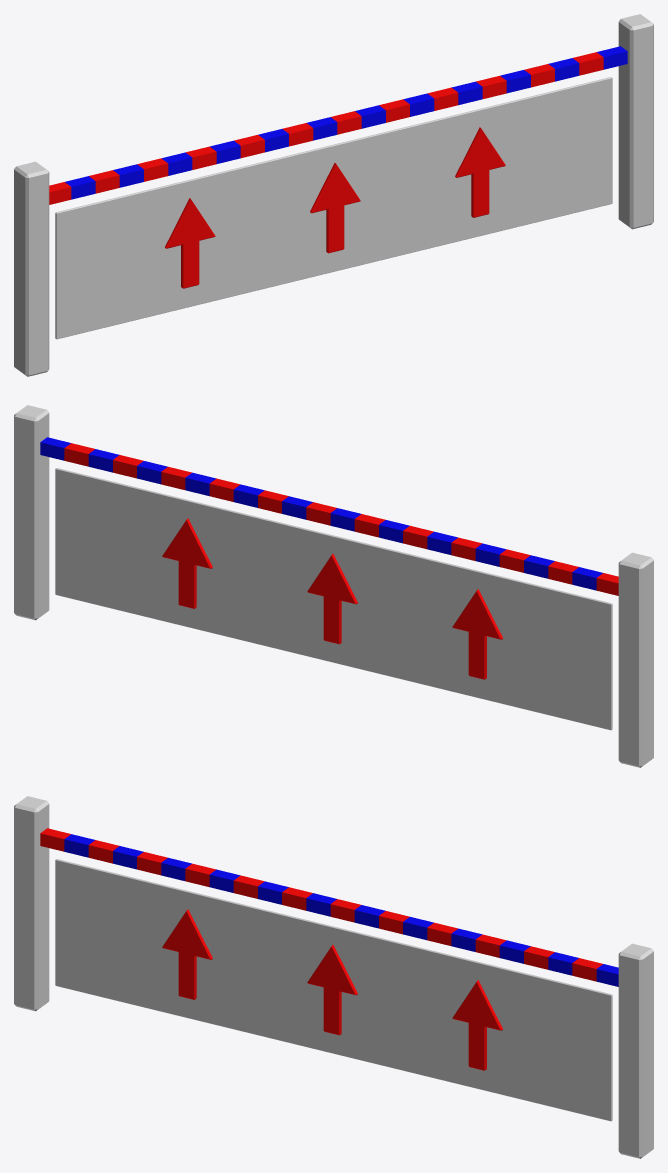
The model's file is obstacle_02.glb.
The picture shows the model from 3 angles, top to bottom: view 1: azimuth 30°, elevation 25°; view 2: azimuth 150°, elevation 25°; view 3: azimuth 330°, elevation 25°; orthographic projection.
Visible parts, largest first — view 1: Box003, Box001, Box005, Box004, arrow003, arrow001, arrow002; view 2: Box003, Box001, Box005, Box004, arrow003, arrow001, arrow002; view 3: Box003, Box001, Box004, Box005, arrow002, arrow001, arrow003.
Boxes of the visible parts, <box> form: Box003: <box>55,77,612,339</box>; Box001: <box>14,14,653,376</box>; Box005: <box>65,46,627,199</box>; Box004: <box>49,52,603,204</box>; arrow003: <box>165,198,215,288</box>; arrow001: <box>310,163,360,253</box>; arrow002: <box>455,127,505,217</box>; Box003: <box>55,468,612,730</box>; Box001: <box>14,405,653,767</box>; Box005: <box>40,437,602,590</box>; Box004: <box>64,443,618,595</box>; arrow003: <box>452,589,502,679</box>; arrow001: <box>307,554,357,644</box>; arrow002: <box>162,518,212,608</box>; Box003: <box>55,859,612,1121</box>; Box001: <box>14,796,653,1158</box>; Box004: <box>40,828,602,981</box>; Box005: <box>64,834,618,986</box>; arrow002: <box>452,980,502,1070</box>; arrow001: <box>307,945,357,1035</box>; arrow003: <box>162,909,212,999</box>.
Size of the model in its own units: 2.6 by 0.8 by 0.1.
